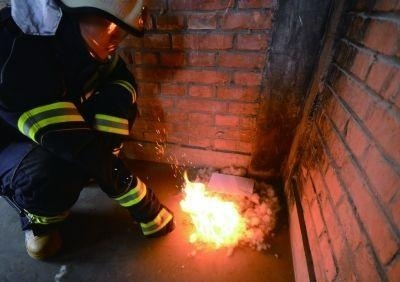fire: (178, 171, 247, 249)
